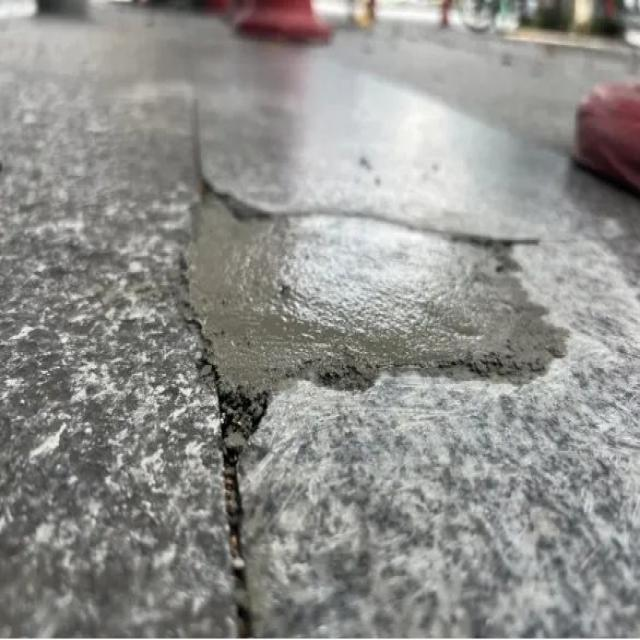Pothole: (178, 185, 557, 406)
